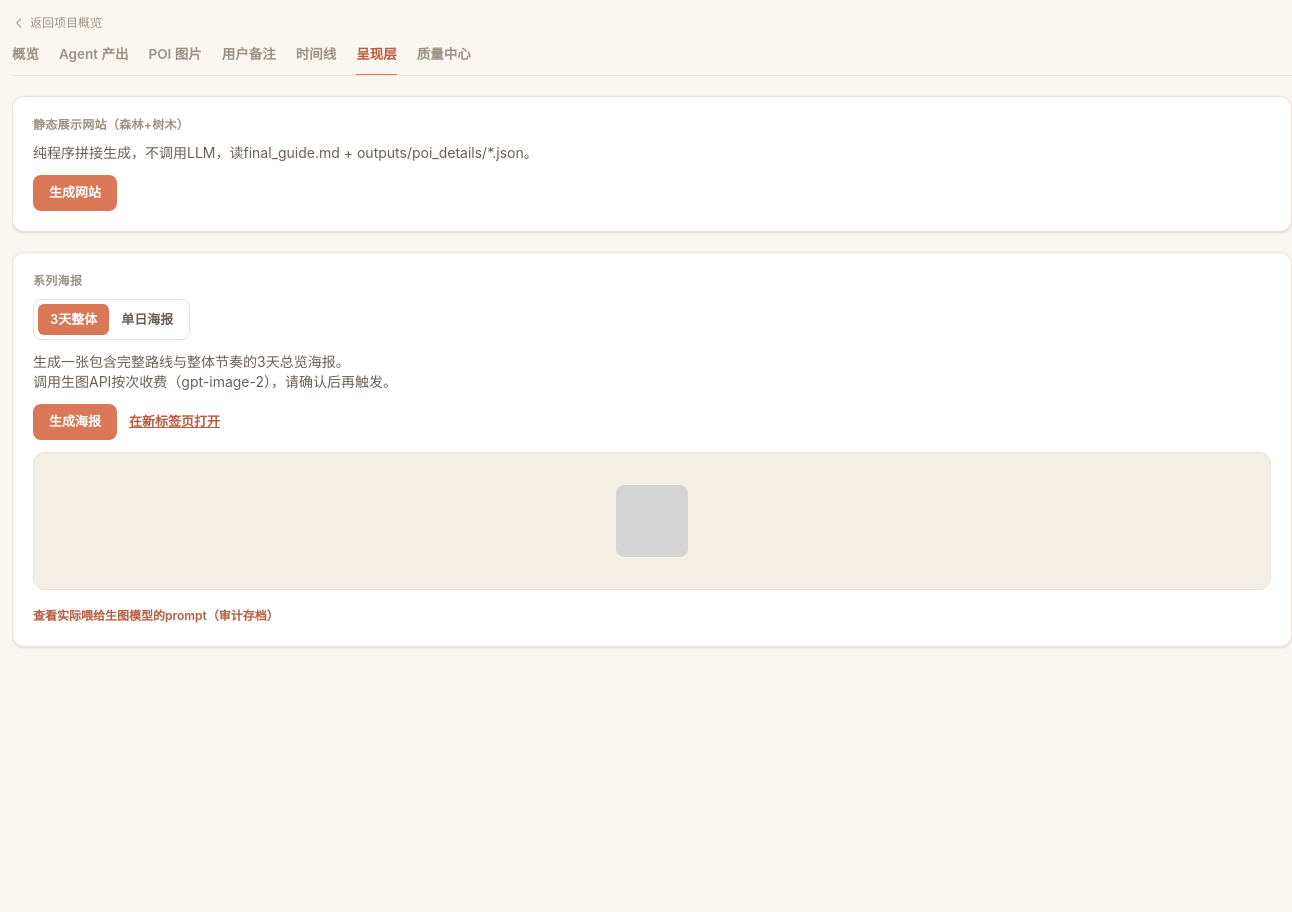
PresentationPage › reveals the poster_prompt.txt audit content behind a disclosure toggle
Expected: the text "这是喂给生图模型的真实prompt内容" is not shown
Click the button "查看实际喂给生图模型的prompt（审计存档）" at (156, 616), box [33,608,279,624]
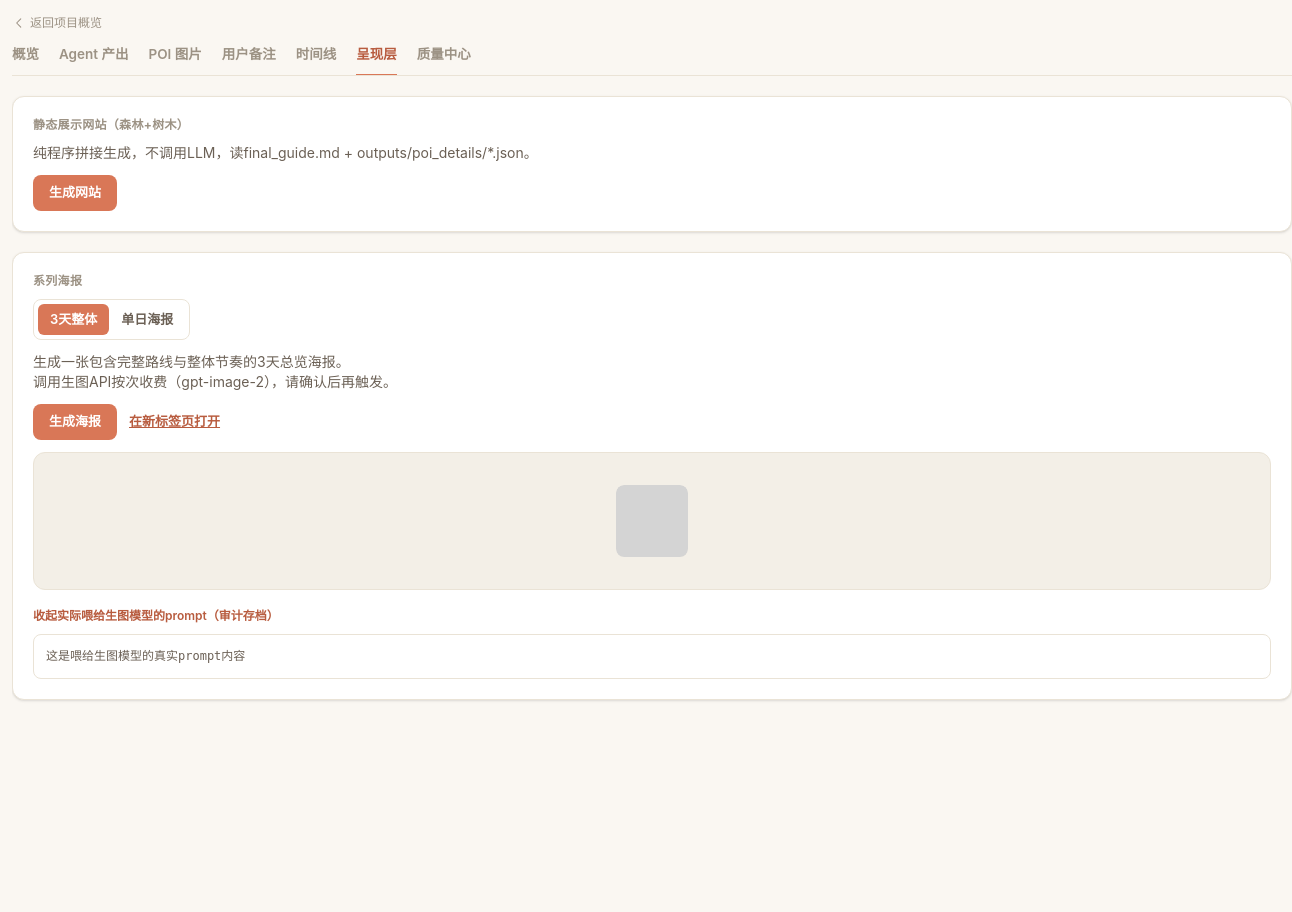
Result: the text "这是喂给生图模型的真实prompt内容" is shown at [33,634,1271,679]
